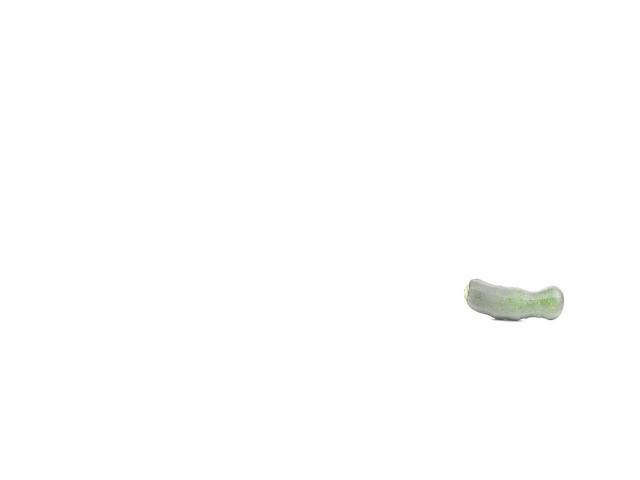cucumber: (463, 278, 563, 320)
